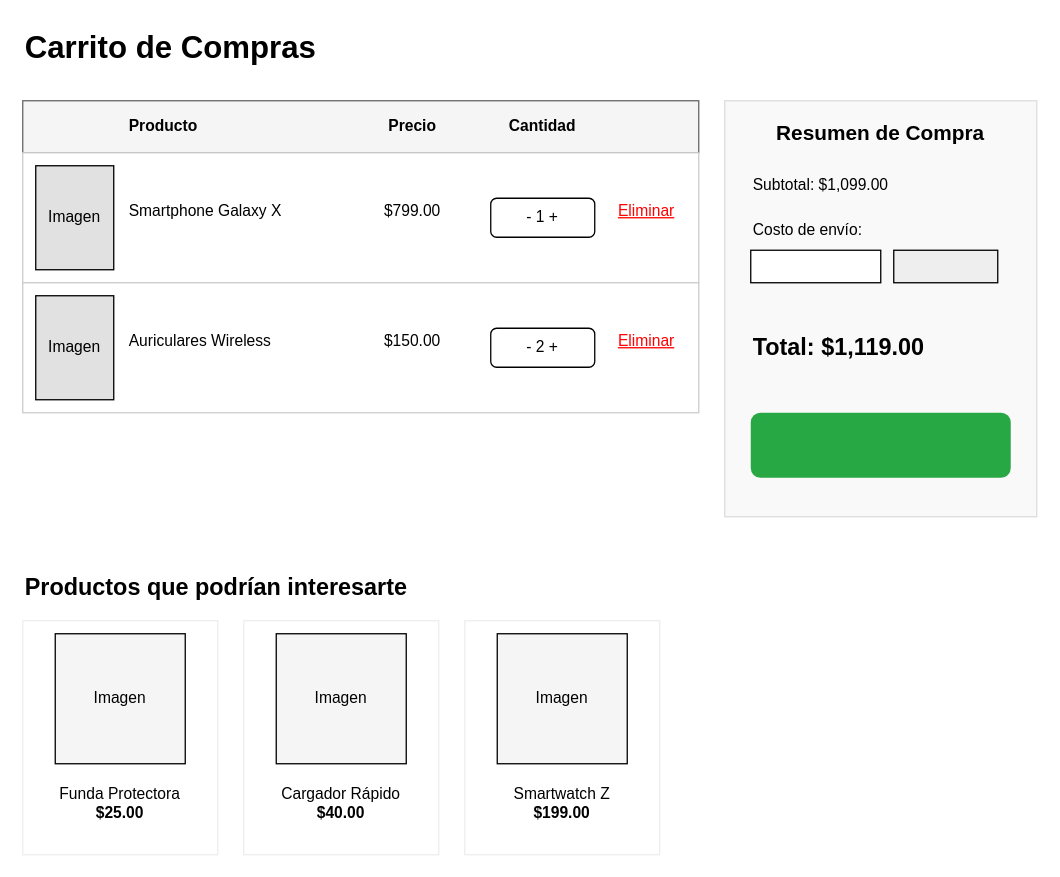
Some shapes in this 1060 by 877 pixel diagram are drawn without their labels. Here are the shapes that lost their labels. From the top down, the centre of each, then its label:
At point (815, 266): "CP: 12345".
At point (945, 266): "Calcular".
At point (880, 444): "FINALIZAR COMPRA".
